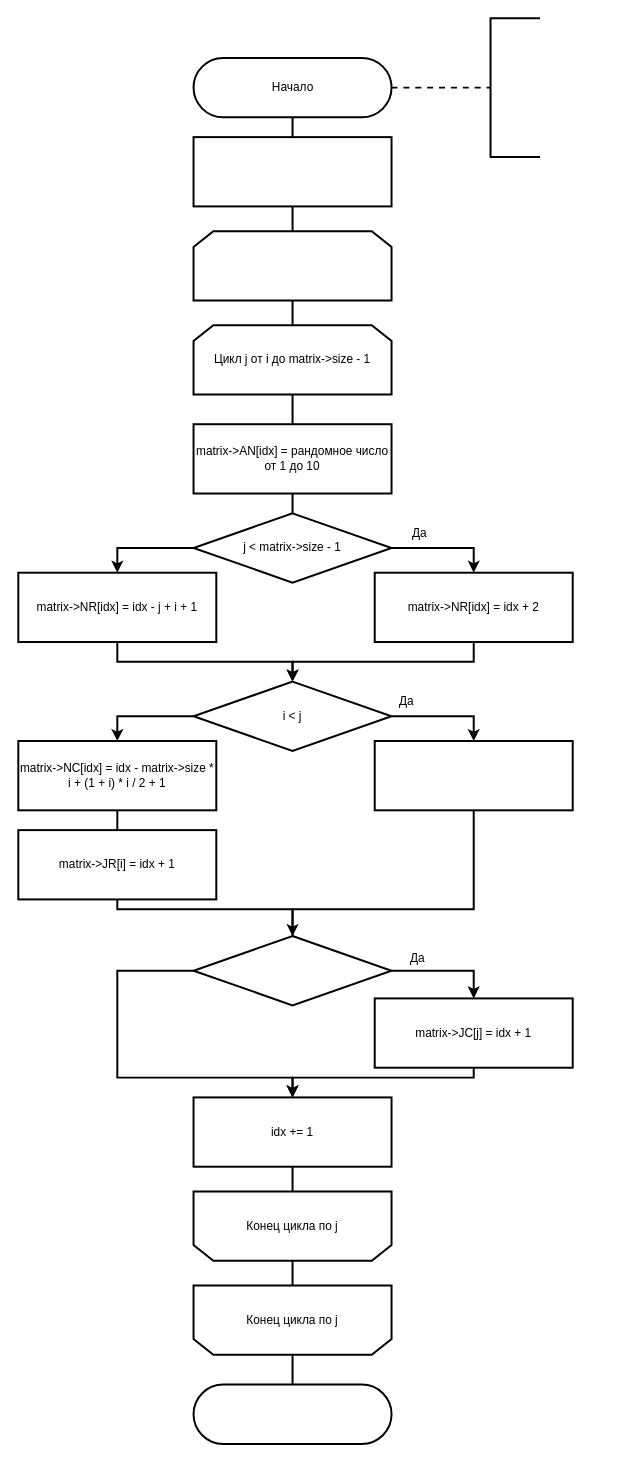
Some shapes in this 642 by 1461 pixel diagram are drawn without their labels. Here are the shapes that lost their labels. From the top down, the centre of each, then its label:
At point (515, 87): "Вход: разреженная матрица matrix".
At point (292, 171): "idx = 0".
At point (292, 265): "Цикл i от 0 до matrix->size - 1".
At point (473, 775): "matrix->NC[idx] = idx + matrix->size - i".
At point (292, 970): "i == 0".
At point (292, 1413): "Конец".
